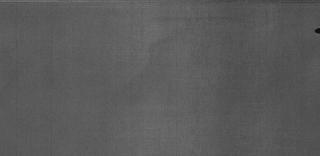punching hole: (314, 26, 320, 34)
